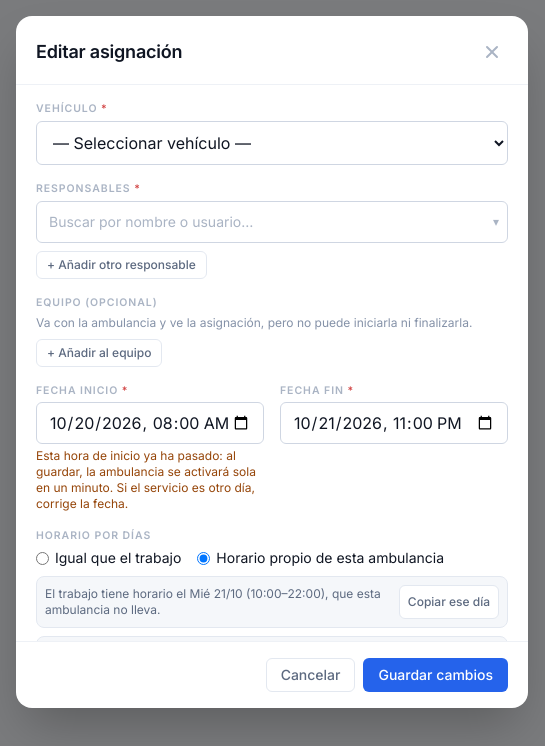
AsignacionForm · horario por días › al pasar de horario propio a «Igual que el trabajo» enseña el horario del trabajo
Click the radio button labelled "Igual que el trabajo".
click(42, 558)  # box [36,552,49,565]
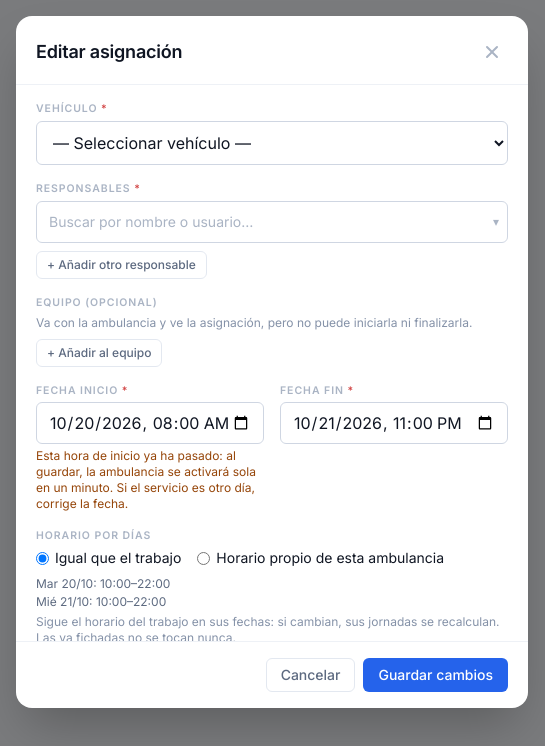
Now the list item "Mar 20/10: 10:00–22:00" is shown, box [36,576,170,591]
Now the list item "Mié 21/10: 10:00–22:00" is shown, box [36,594,166,609]
